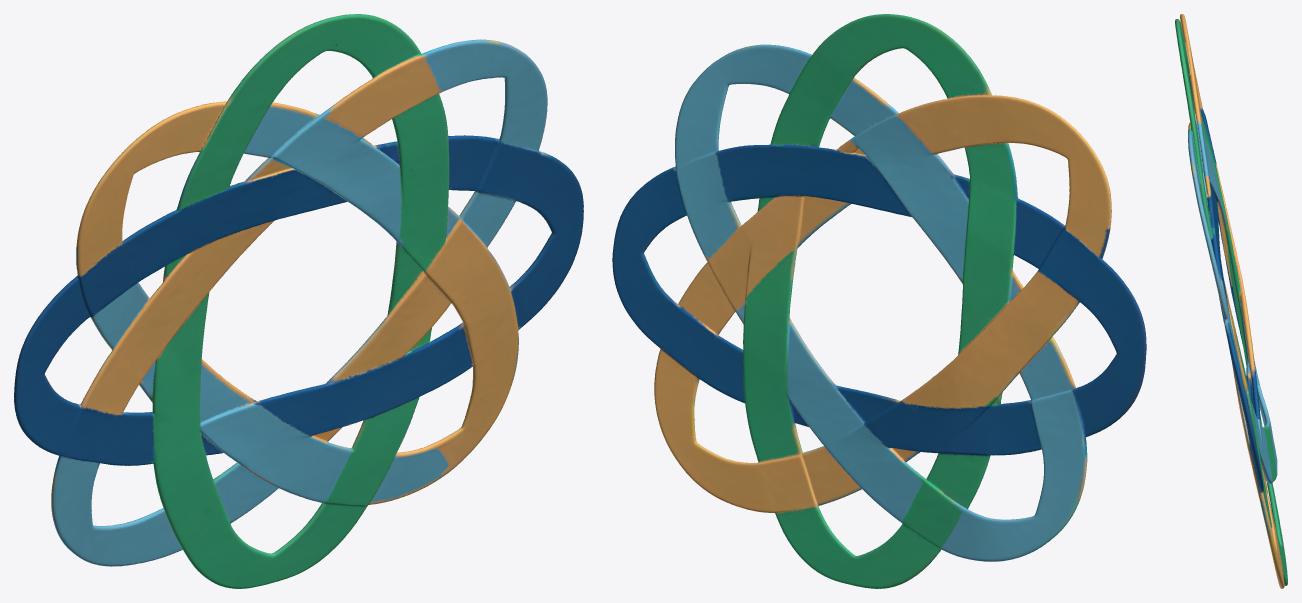
File: close_color.glb
3 renders of one model, left to right at view 1: azimuth 30°, elevation 25°; view 2: azimuth 150°, elevation 25°; view 3: azimuth 270°, elevation 25°, orthographic. The views are drawn at different scales.
Parts seen in each view (by area): view 1: material.001; view 2: material.001; view 3: material.001.
Boxes of the visible parts, left/top/right/bottom form: material.001: left=14, top=14, right=583, bottom=588; material.001: left=612, top=14, right=1146, bottom=588; material.001: left=1175, top=14, right=1287, bottom=588.
Bounding box in the file's own units: 1.19 × 1.18 × 0.2215.
1 material, 1 textured.
